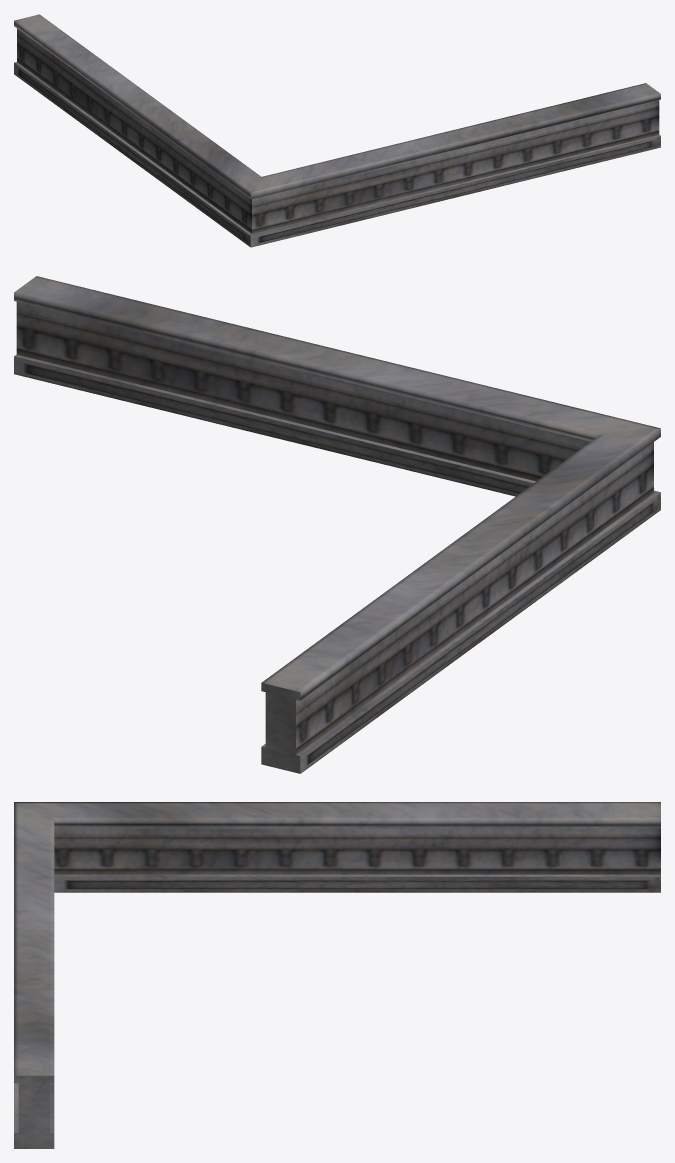
The model's file is railing_corner_01.fbx.
3 views of the same model, one above another, from view 1: azimuth 30°, elevation 25°; view 2: azimuth 150°, elevation 25°; view 3: azimuth 270°, elevation 25° (orthographic). The views are drawn at different scales.
Parts seen in each view (by area): view 1: railing_corner_01; view 2: railing_corner_01; view 3: railing_corner_01.
Part boxes in pixels (x1=…): railing_corner_01: x1=14, y1=14, x2=660, y2=247; railing_corner_01: x1=14, y1=276, x2=660, y2=773; railing_corner_01: x1=14, y1=802, x2=660, y2=1148.
Bounding box in the file's own units: 800 × 100 × 800.
